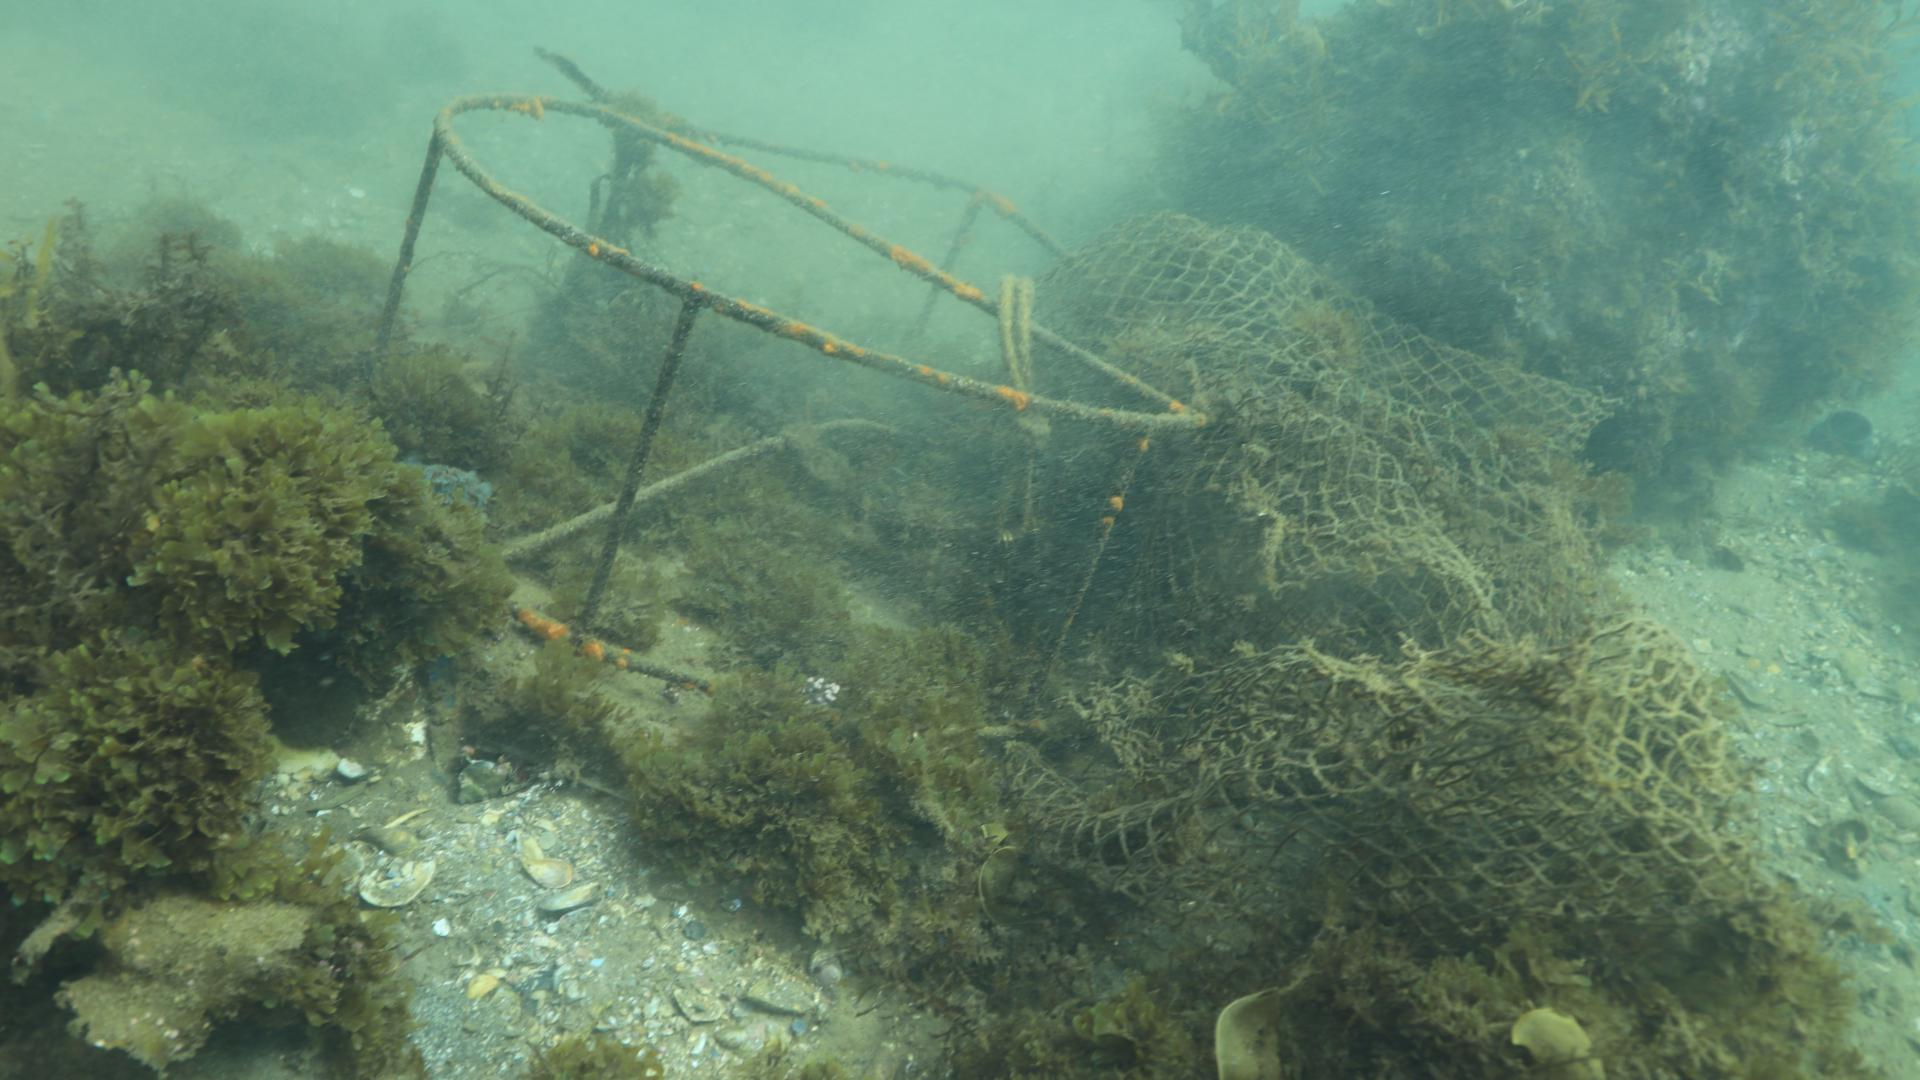bundle of ropes: (994, 272, 1034, 407)
fish net: (994, 204, 1778, 957)
